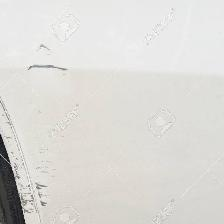scrach: (21, 145, 56, 206)
